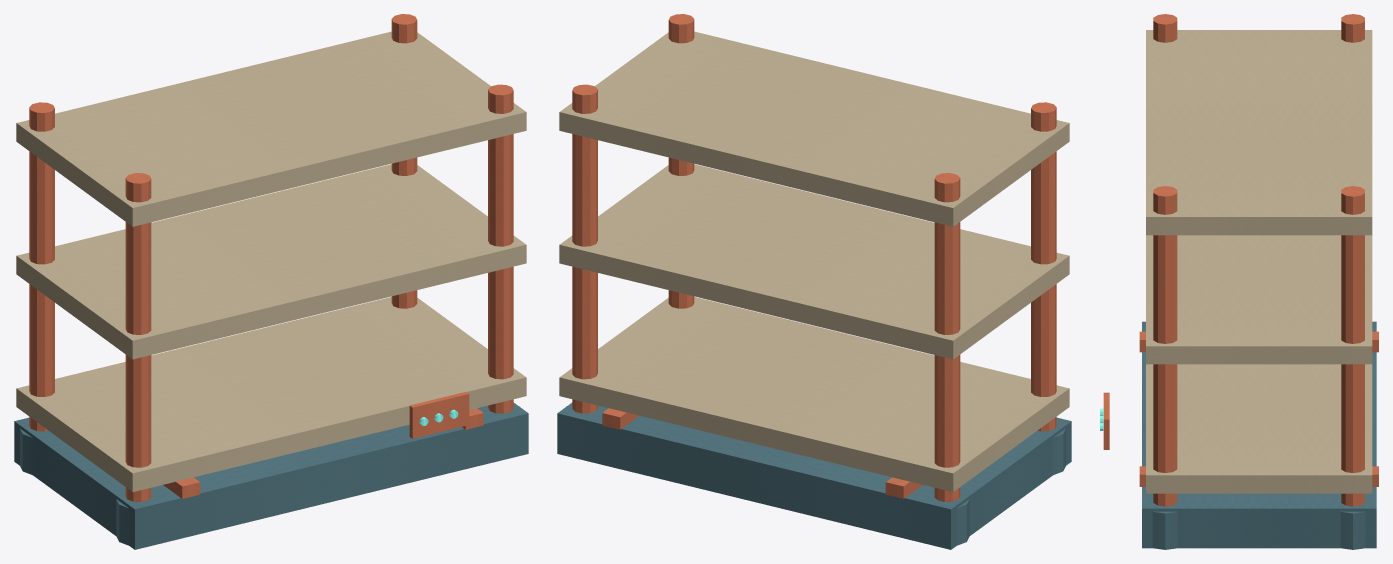
File: atlas100-s041-a06.glb
3 views of the same model, side by side, from view 1: azimuth 30°, elevation 25°; view 2: azimuth 150°, elevation 25°; view 3: azimuth 270°, elevation 25° (orthographic). The views are drawn at different scales.
Visible parts, largest first — view 1: atlas100-s041-a06:part-013, atlas100-s041-a06:part-012, atlas100-s041-a06:part-011, atlas100-s041-a06:part-000, atlas100-s041-a06:part-005, atlas100-s041-a06:part-009, atlas100-s041-a06:part-003, atlas100-s041-a06:part-014, atlas100-s041-a06:part-007; view 2: atlas100-s041-a06:part-013, atlas100-s041-a06:part-012, atlas100-s041-a06:part-011, atlas100-s041-a06:part-000, atlas100-s041-a06:part-003, atlas100-s041-a06:part-007, atlas100-s041-a06:part-005, atlas100-s041-a06:part-009; view 3: atlas100-s041-a06:part-013, atlas100-s041-a06:part-012, atlas100-s041-a06:part-011, atlas100-s041-a06:part-000, atlas100-s041-a06:part-009, atlas100-s041-a06:part-007, atlas100-s041-a06:part-008, atlas100-s041-a06:part-010, atlas100-s041-a06:part-005, atlas100-s041-a06:part-003, atlas100-s041-a06:part-014.
Part boxes in pixels (x1=…): atlas100-s041-a06:part-013: x1=16, y1=31, x2=526, y2=226; atlas100-s041-a06:part-012: x1=16, y1=164, x2=526, y2=359; atlas100-s041-a06:part-011: x1=16, y1=297, x2=526, y2=491; atlas100-s041-a06:part-000: x1=14, y1=402, x2=528, y2=549; atlas100-s041-a06:part-005: x1=125, y1=173, x2=151, y2=501; atlas100-s041-a06:part-009: x1=488, y1=84, x2=513, y2=413; atlas100-s041-a06:part-003: x1=29, y1=102, x2=54, y2=431; atlas100-s041-a06:part-014: x1=409, y1=392, x2=469, y2=438; atlas100-s041-a06:part-007: x1=391, y1=14, x2=417, y2=308; atlas100-s041-a06:part-013: x1=559, y1=31, x2=1069, y2=226; atlas100-s041-a06:part-012: x1=559, y1=164, x2=1069, y2=359; atlas100-s041-a06:part-011: x1=559, y1=297, x2=1069, y2=491; atlas100-s041-a06:part-000: x1=557, y1=402, x2=1071, y2=549; atlas100-s041-a06:part-003: x1=934, y1=173, x2=960, y2=501; atlas100-s041-a06:part-007: x1=572, y1=84, x2=597, y2=413; atlas100-s041-a06:part-005: x1=1031, y1=102, x2=1056, y2=431; atlas100-s041-a06:part-009: x1=668, y1=14, x2=694, y2=308; atlas100-s041-a06:part-013: x1=1146, y1=30, x2=1372, y2=235; atlas100-s041-a06:part-012: x1=1146, y1=235, x2=1372, y2=364; atlas100-s041-a06:part-011: x1=1146, y1=364, x2=1372, y2=493; atlas100-s041-a06:part-000: x1=1142, y1=321, x2=1376, y2=548; atlas100-s041-a06:part-009: x1=1153, y1=186, x2=1177, y2=506; atlas100-s041-a06:part-007: x1=1341, y1=186, x2=1364, y2=506; atlas100-s041-a06:part-008: x1=1340, y1=511, x2=1365, y2=549; atlas100-s041-a06:part-010: x1=1152, y1=511, x2=1177, y2=549; atlas100-s041-a06:part-005: x1=1153, y1=14, x2=1177, y2=42; atlas100-s041-a06:part-003: x1=1341, y1=14, x2=1364, y2=42; atlas100-s041-a06:part-014: x1=1103, y1=392, x2=1109, y2=449.
Bounding box in the file's own units: 2.69 × 2.3 × 1.66.
Materials: 4 (4 with a texture image).
